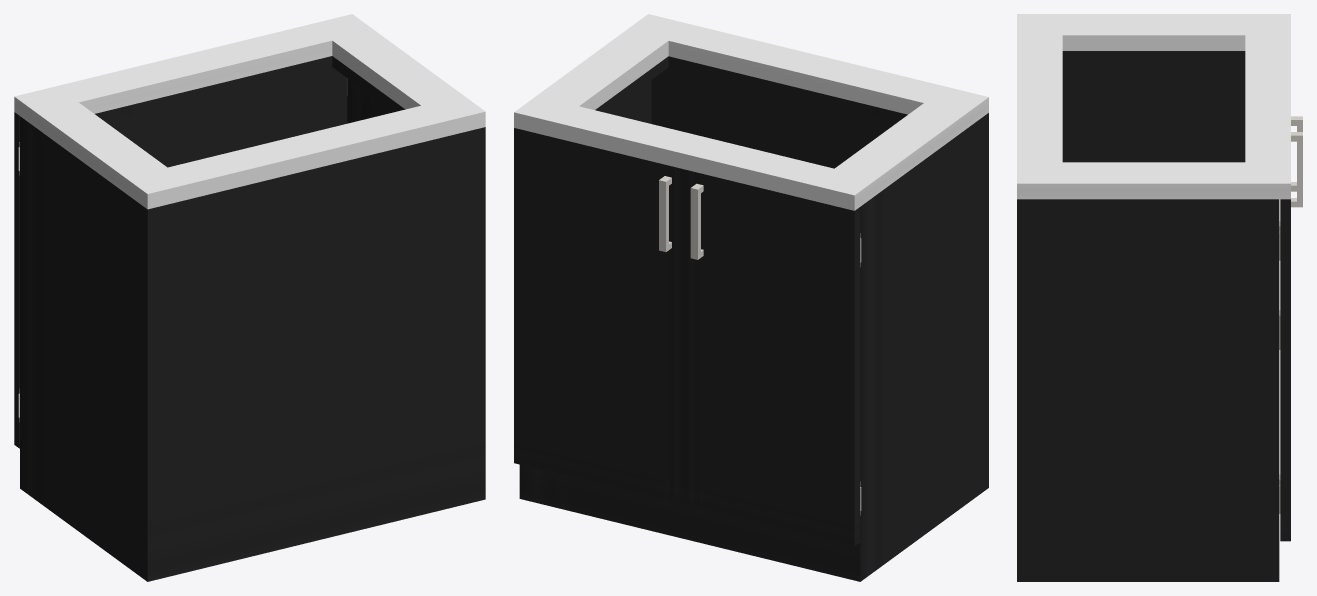
Rendered from CabinetD_Sink.glb.
3 renders of one model, left to right at view 1: azimuth 30°, elevation 25°; view 2: azimuth 150°, elevation 25°; view 3: azimuth 270°, elevation 25°, orthographic. The views are drawn at different scales.
Parts seen in each view (by area): view 1: CabinetD_Sink_model, CabinetD_SinkDoor02, CabinetD_SinkDoor01; view 2: CabinetD_Sink_model, CabinetD_SinkDoor01, CabinetD_SinkDoor02; view 3: CabinetD_Sink_model, CabinetD_SinkDoor02.
Boxes of the visible parts, left/top/right/bottom form: CabinetD_Sink_model: left=14, top=14, right=485, bottom=581; CabinetD_SinkDoor02: left=188, top=67, right=347, bottom=162; CabinetD_SinkDoor01: left=14, top=102, right=188, bottom=448; CabinetD_Sink_model: left=514, top=14, right=988, bottom=581; CabinetD_SinkDoor01: left=684, top=169, right=861, bottom=546; CabinetD_SinkDoor02: left=514, top=128, right=684, bottom=504; CabinetD_Sink_model: left=1017, top=14, right=1290, bottom=581; CabinetD_SinkDoor02: left=1279, top=132, right=1302, bottom=541.
Bounding box in the file's own units: 1.85 × 2.02 × 1.31.
1 material, 1 textured.
